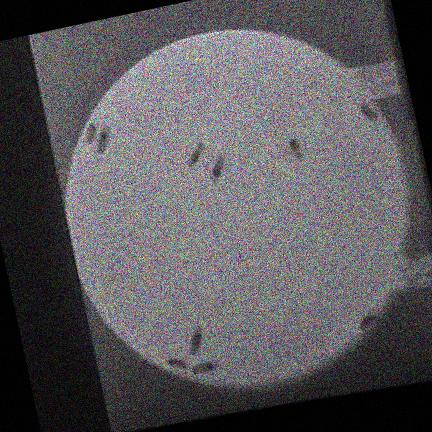fly: (188, 143, 204, 166), (189, 327, 202, 355), (191, 361, 216, 375), (359, 311, 376, 331), (360, 104, 377, 123), (97, 126, 108, 154), (287, 139, 301, 160), (212, 157, 223, 180), (84, 122, 96, 141), (167, 358, 187, 369)
